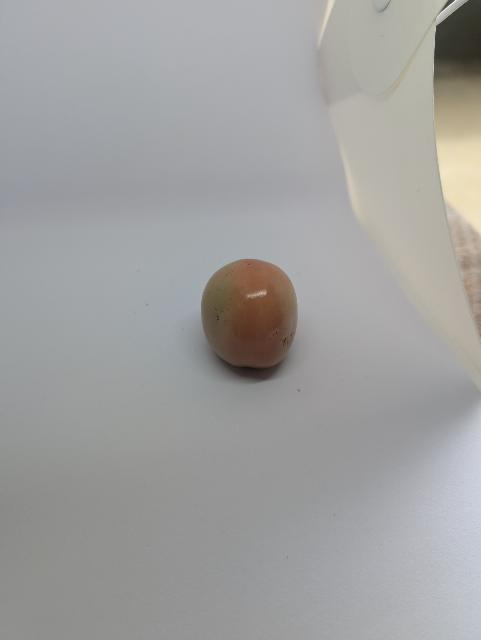turning: (193, 250, 314, 385)
